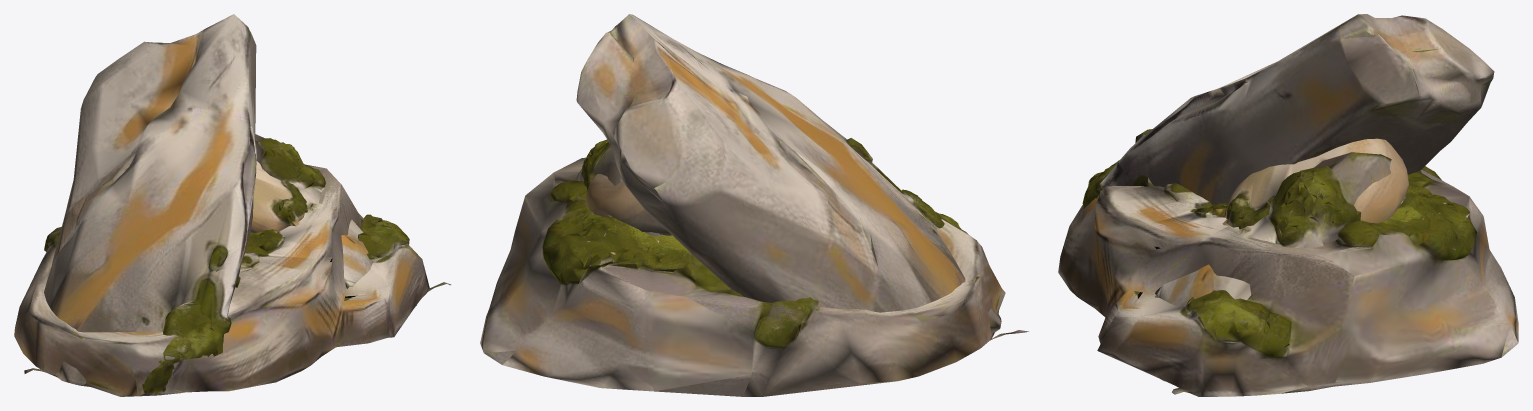
File: kayalar3.glb
3 renders of one model, left to right at view 1: azimuth 30°, elevation 25°; view 2: azimuth 150°, elevation 25°; view 3: azimuth 270°, elevation 25°, orthographic. The views are drawn at different scales.
Parts seen in each view (by area): view 1: egik, alcak, yigin; view 2: egik, alcak, yigin; view 3: alcak, egik, yigin.
Boxes of the visible parts, <box> form: egik: <box>44,14,417,394</box>; alcak: <box>14,164,451,396</box>; yigin: <box>251,161,307,232</box>; egik: <box>575,14,1001,333</box>; alcak: <box>480,157,1028,396</box>; yigin: <box>586,173,671,235</box>; alcak: <box>1058,166,1518,396</box>; egik: <box>1082,14,1494,381</box>; yigin: <box>1225,138,1409,333</box>.
Size of the model in its own units: 0.6164 by 0.3654 by 0.496.
Materials: 1 (1 with a texture image).
